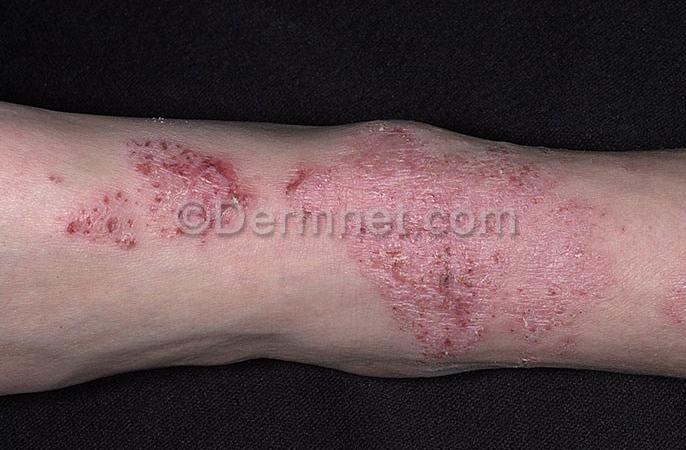Eritema 2: (70, 126, 590, 373)
excoriacion 3: (65, 130, 593, 378)
xerosis 2: (67, 129, 583, 368)
